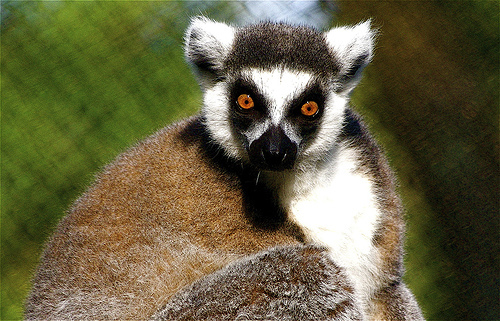cat: (18, 16, 425, 319)
